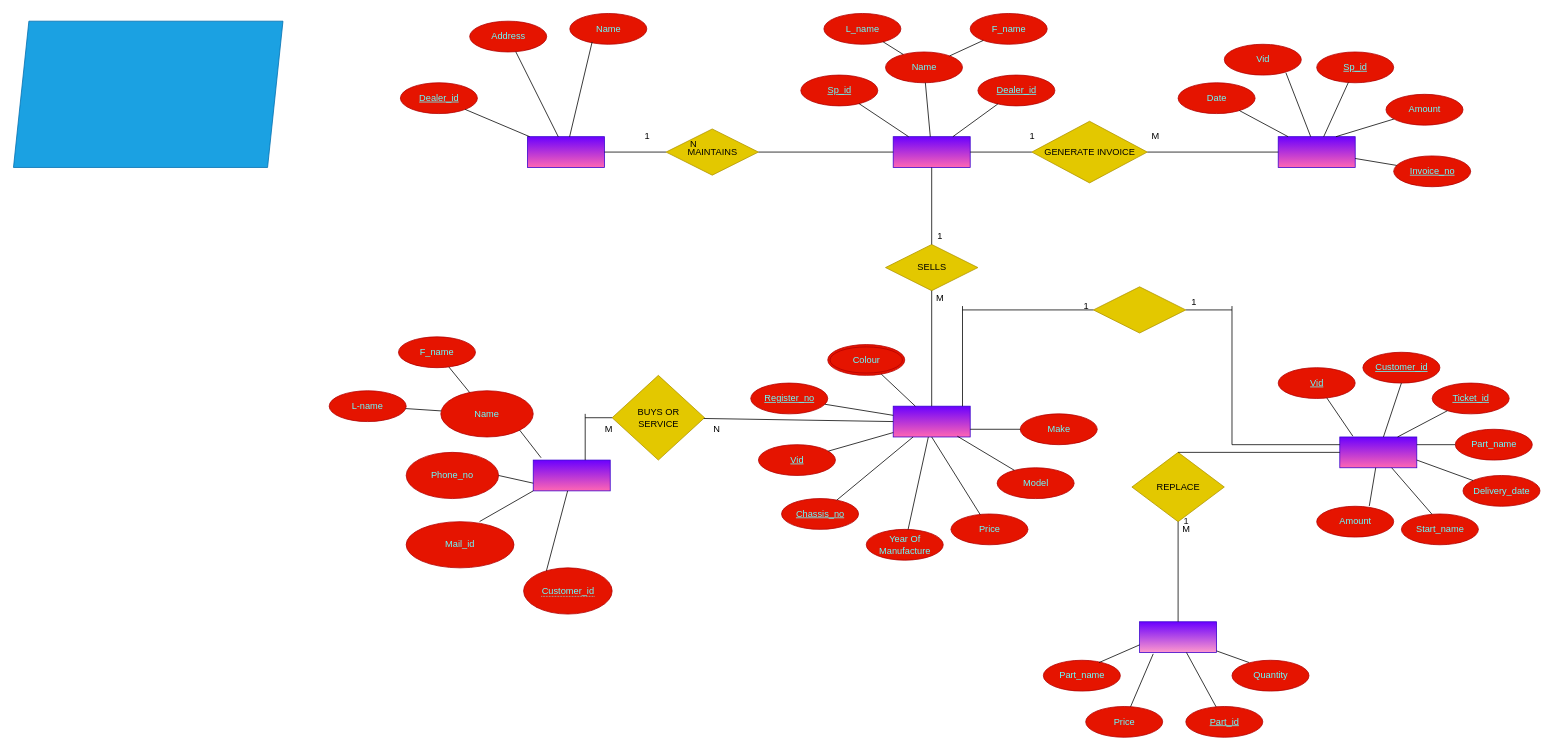
The diagram is 1554 pixels wide and 751 high, and some of its shapes have lost their labels. Here are the shapes that lost their labels. From the top down, the centre of each, then its label:
At [148,93]: "VISHWAS M".
At [565,151]: "DEALER".
At [931,151]: "Salesperson".
At [1316,151]: "INVOICE".
At [1139,309]: "NEEDS".
At [931,421]: "E-BIKE".
At [1378,452]: "SERVICE TICKET".
At [571,475]: "CUSTOMER".
At [1178,637]: "PART".
